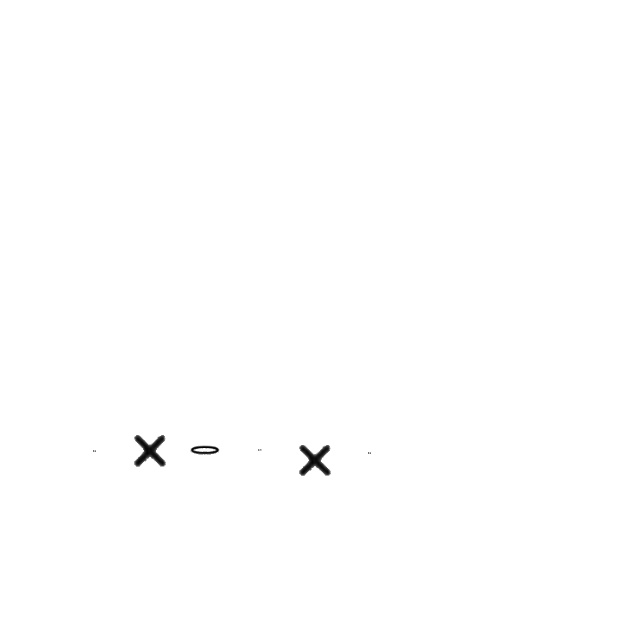chain: (188, 444, 222, 458), (258, 449, 262, 451), (368, 452, 372, 454), (94, 450, 96, 452)
double: (131, 430, 169, 470), (296, 439, 334, 479)
